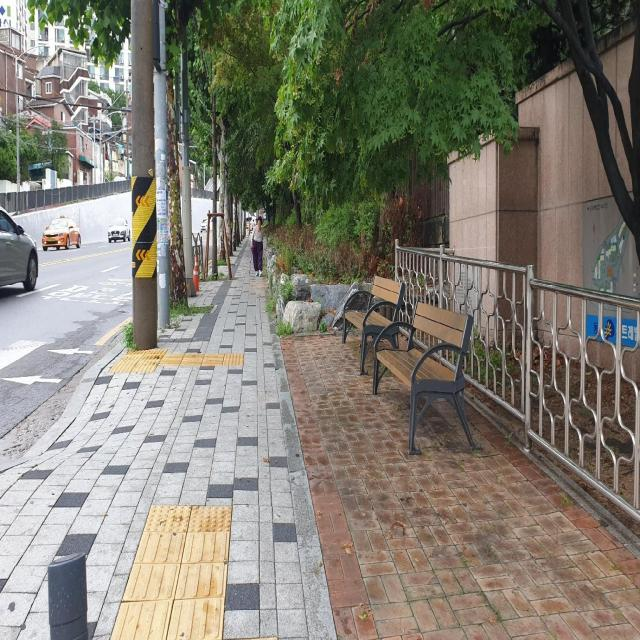bench ahead at: (371, 294, 479, 459)
electric pole ahead at: (125, 0, 166, 362)
person ahead at: (248, 207, 269, 280)
stones ahead at: (277, 268, 334, 330)
